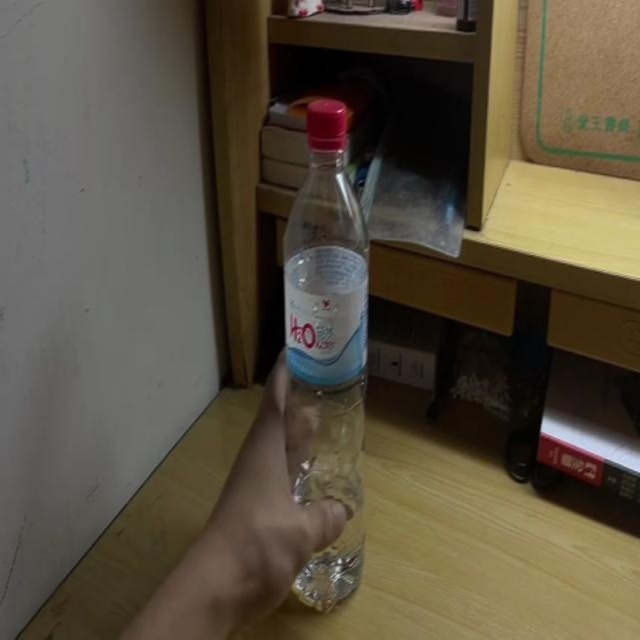Water: (284, 100, 368, 611)
